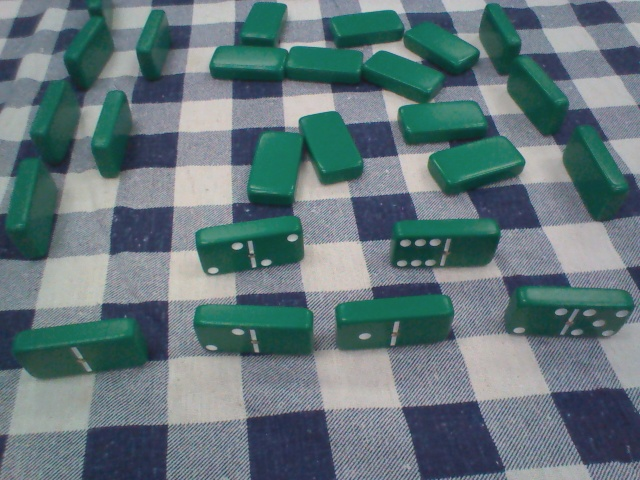A: (419, 136, 530, 196), (298, 112, 376, 181), (362, 42, 444, 103), (247, 127, 307, 208), (402, 16, 481, 73), (392, 98, 493, 141), (282, 40, 366, 86), (325, 9, 406, 48), (209, 41, 289, 79), (236, 1, 292, 47)
C: (10, 157, 61, 263), (91, 87, 140, 180), (61, 15, 118, 90), (32, 76, 82, 160), (136, 8, 175, 85)
D: (562, 126, 631, 219), (503, 53, 572, 137), (476, 5, 526, 70)
E: (193, 297, 323, 366), (11, 321, 157, 379), (503, 284, 638, 344), (335, 292, 457, 352), (391, 217, 504, 275), (195, 225, 310, 276)
